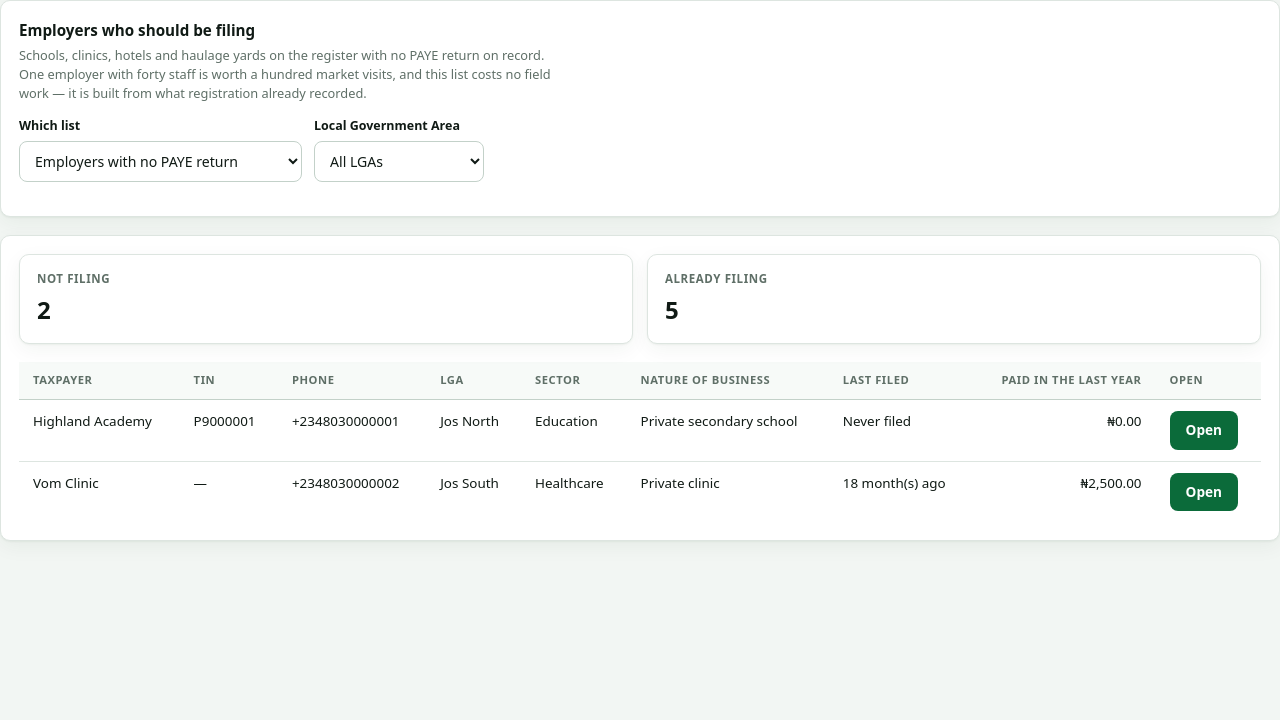
Test case: the return form › will not file an empty return
The width and height of the screenshot is (1280, 720).
Expected: the text "Highland Academy" is shown, [19, 400, 180, 461]
Click the button "Open" in the row of "Highland Academy": (1204, 430) [1170, 411, 1238, 450]
(page scrolled)
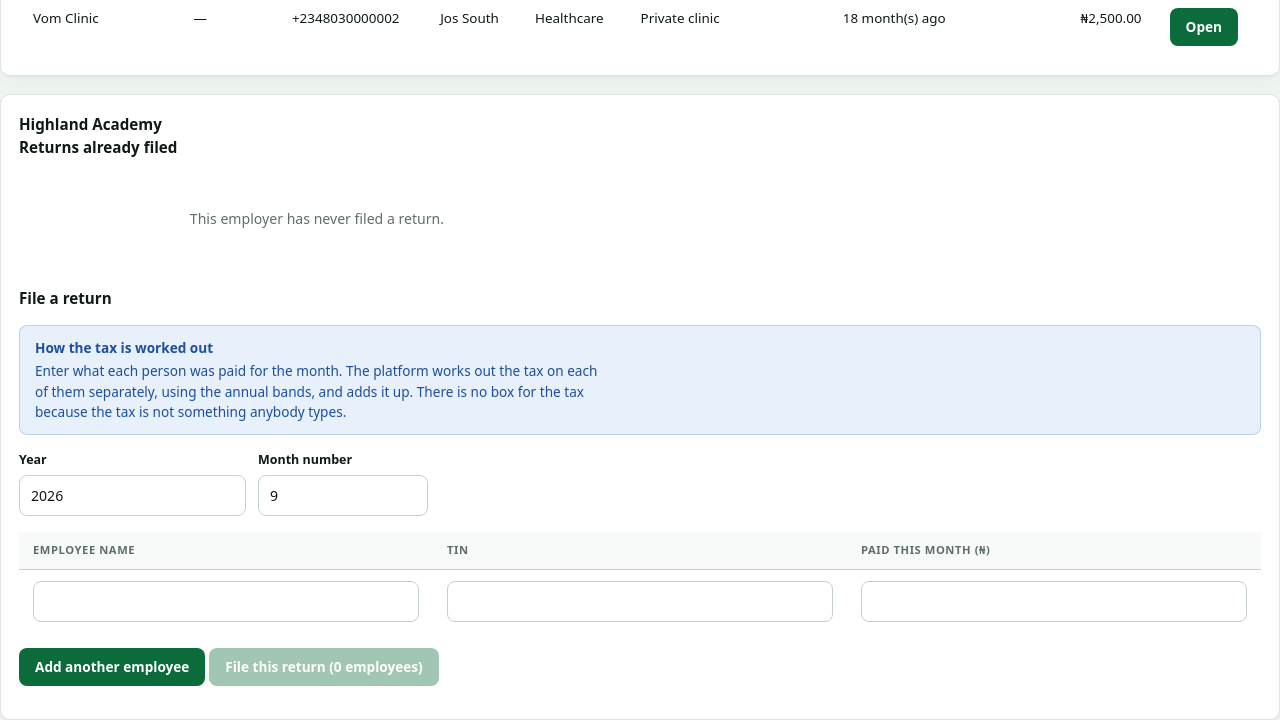
Result: the heading "File a return" is shown at [19, 288, 112, 308]
Result: the button "File this return (0 employees)" is disabled at [209, 648, 439, 686]
In the field named "Employee name 1": (226, 602) [33, 581, 419, 622], type "Ada"
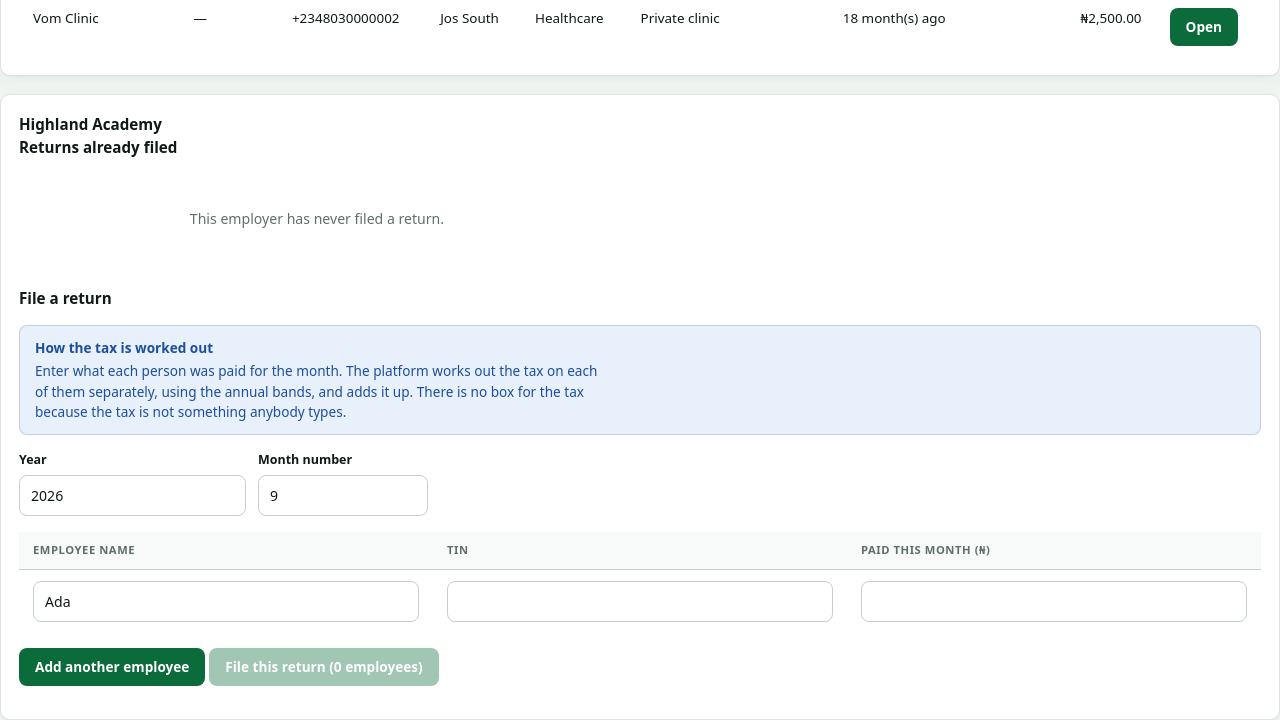
In the field named "Paid this month (₦) 1": (1054, 602) [861, 581, 1247, 622], type "120000"
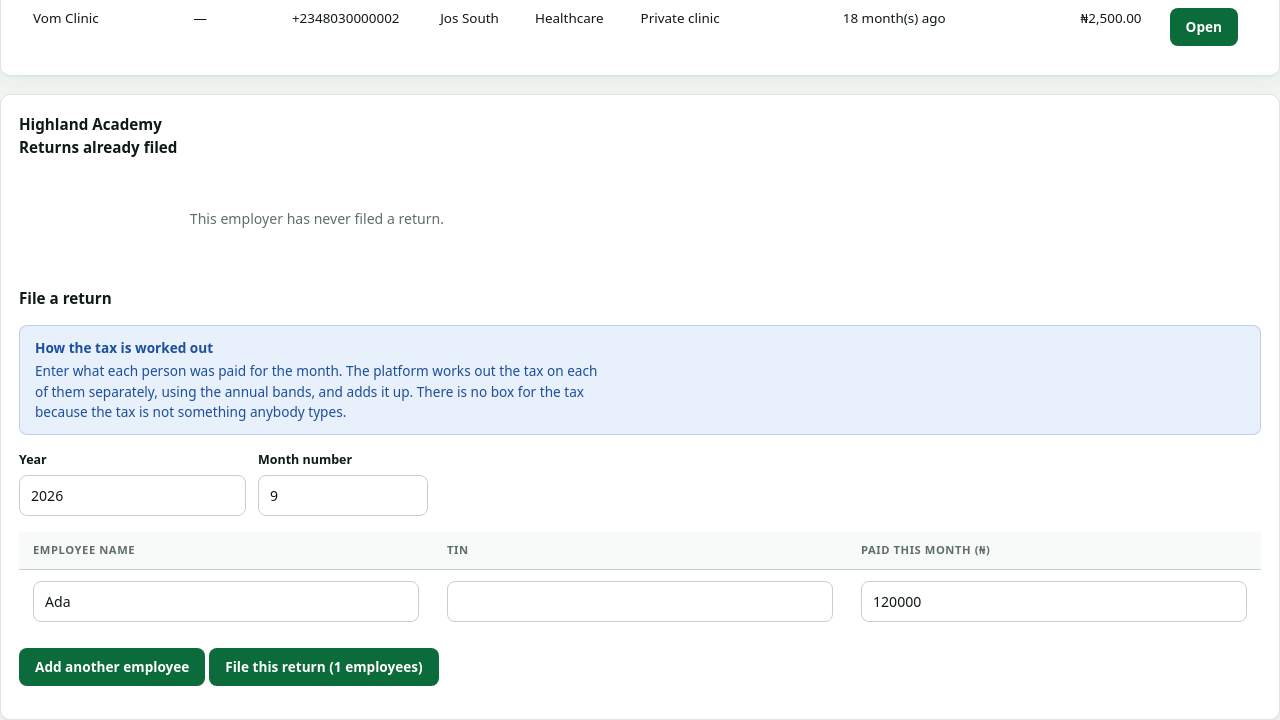
Result: the button "File this return (1 employees)" is enabled at [209, 648, 439, 686]
